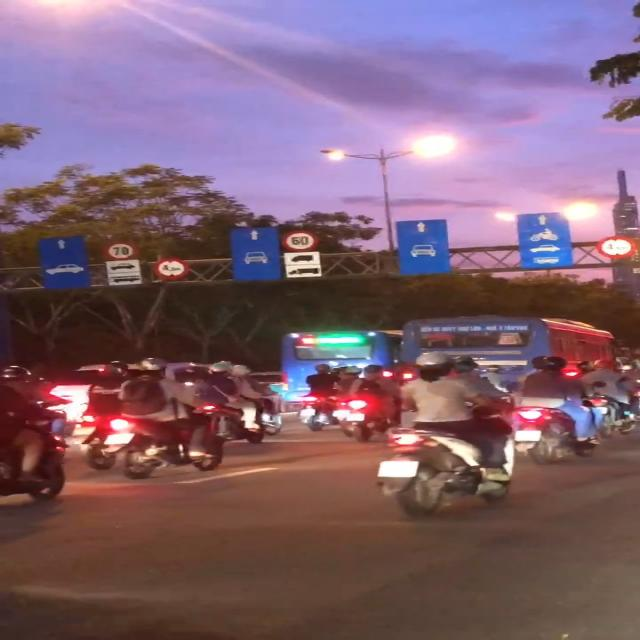Bien bao han che chieu cao: (154, 256, 188, 280)
